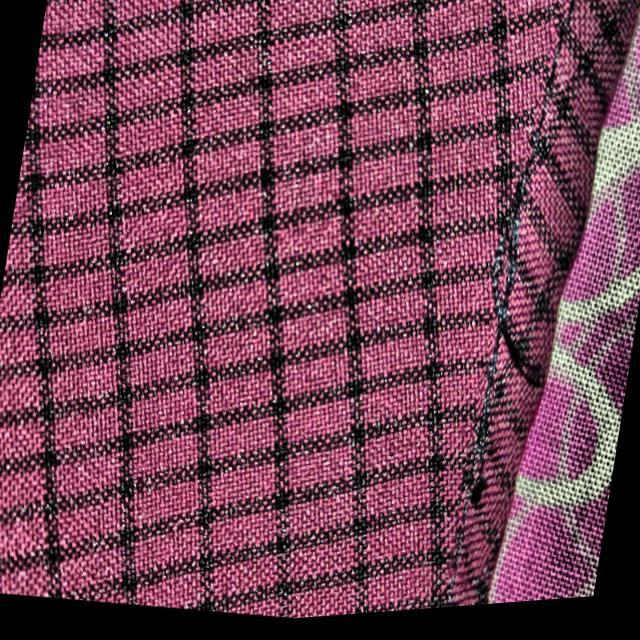Stitch: (420, 139, 584, 476)
